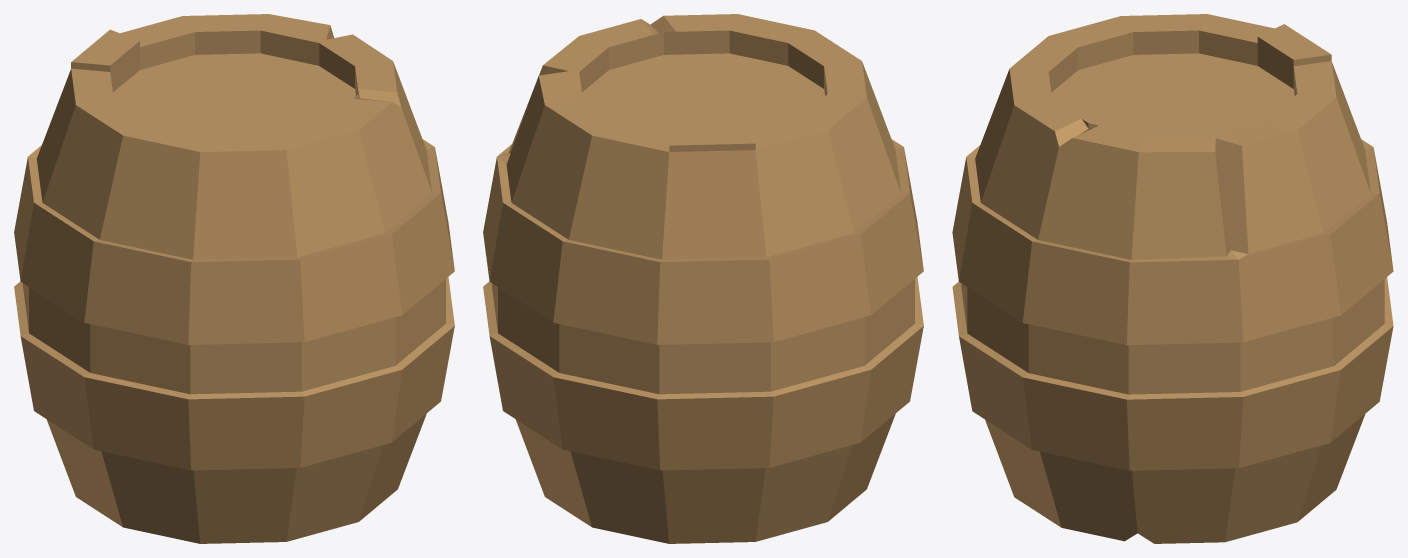
File: Barrel_003.fbx
3 views of the same model, side by side, from view 1: azimuth 30°, elevation 25°; view 2: azimuth 150°, elevation 25°; view 3: azimuth 270°, elevation 25° (orthographic).
Parts seen in each view (by area): view 1: Barrel.003; view 2: Barrel.003; view 3: Barrel.003.
Boxes of the visible parts, x1,y1,x2,y2 form: Barrel.003: (14, 14, 454, 543); Barrel.003: (483, 14, 923, 543); Barrel.003: (952, 14, 1393, 543).
Size of the model in its own units: 80.67 by 80.44 by 80.67.
